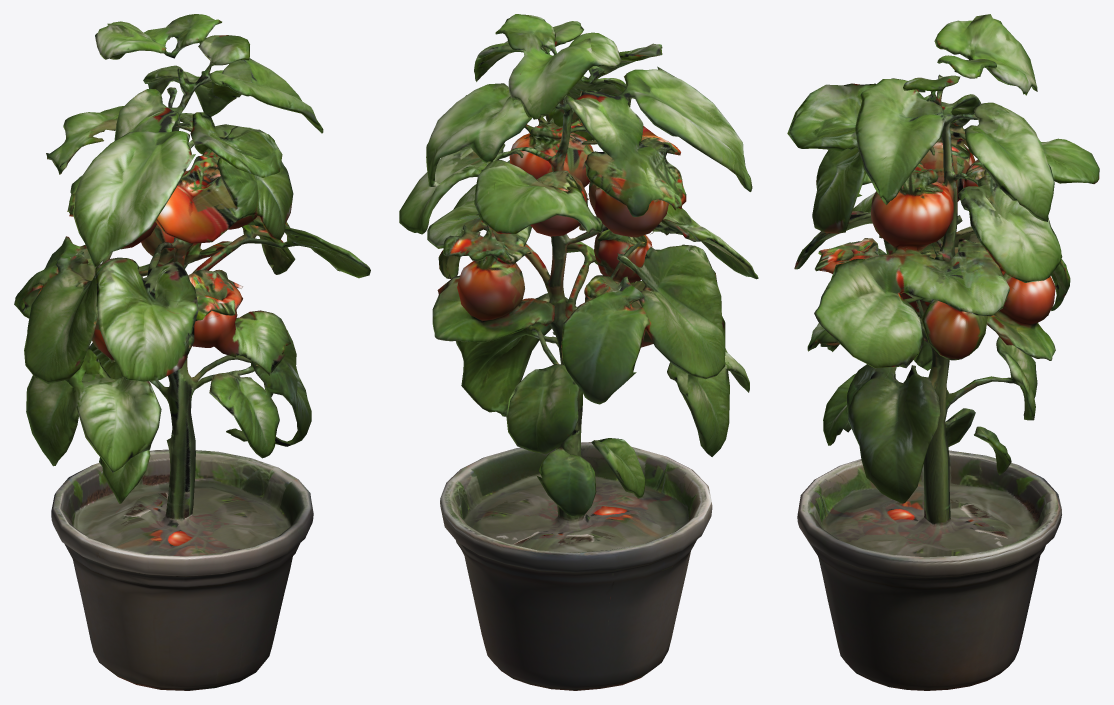
Rendered from tomato2.glb.
3 views of the same model, side by side, from view 1: azimuth 30°, elevation 25°; view 2: azimuth 150°, elevation 25°; view 3: azimuth 270°, elevation 25° (orthographic). The views are drawn at different scales.
Size of the model in its own units: 0.9874 by 2 by 0.9059.
1 material, 1 textured.
